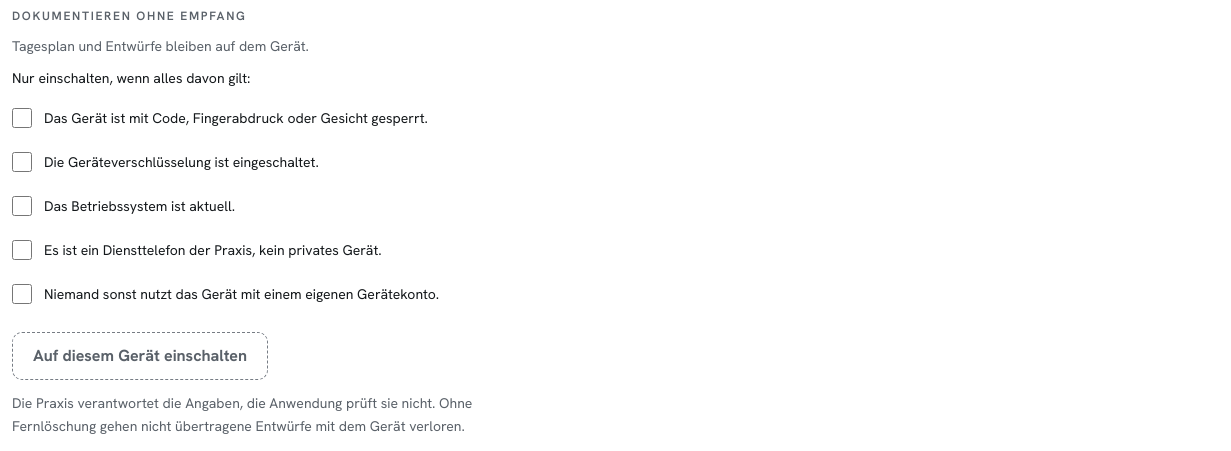
Test: DiensttelefonAbschnitt › schaltet erst ein, wenn jede Zeile der Gerätevorgabe bestätigt ist
Expected: the button "Auf diesem Gerät einschalten" is disabled, [12,332,268,380]
Click the checkbox labelled "Das Gerät ist mit Code, Fingerabdruck oder Gesicht gesperrt.".
click(22, 118)  # box [12,108,32,128]
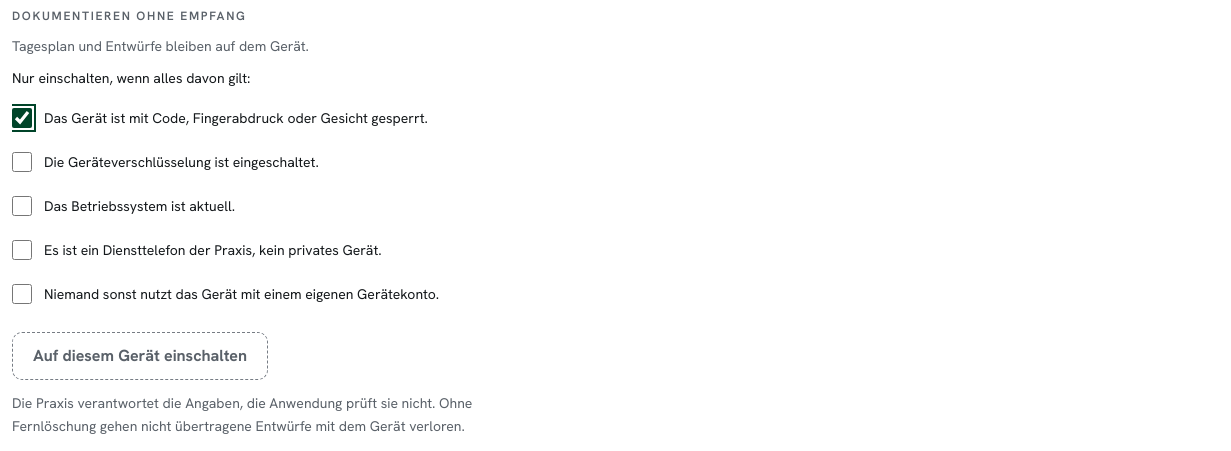
Click the checkbox labelled "Die Geräteverschlüsselung ist eingeschaltet.".
click(22, 162)  # box [12,152,32,172]
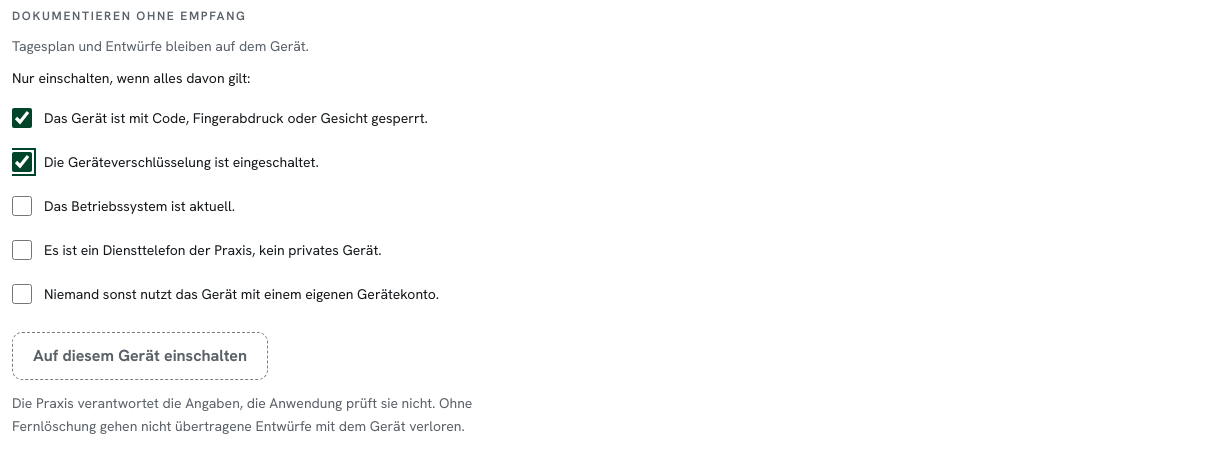
Click the checkbox labelled "Das Betriebssystem ist aktuell.".
click(22, 206)  # box [12,196,32,216]
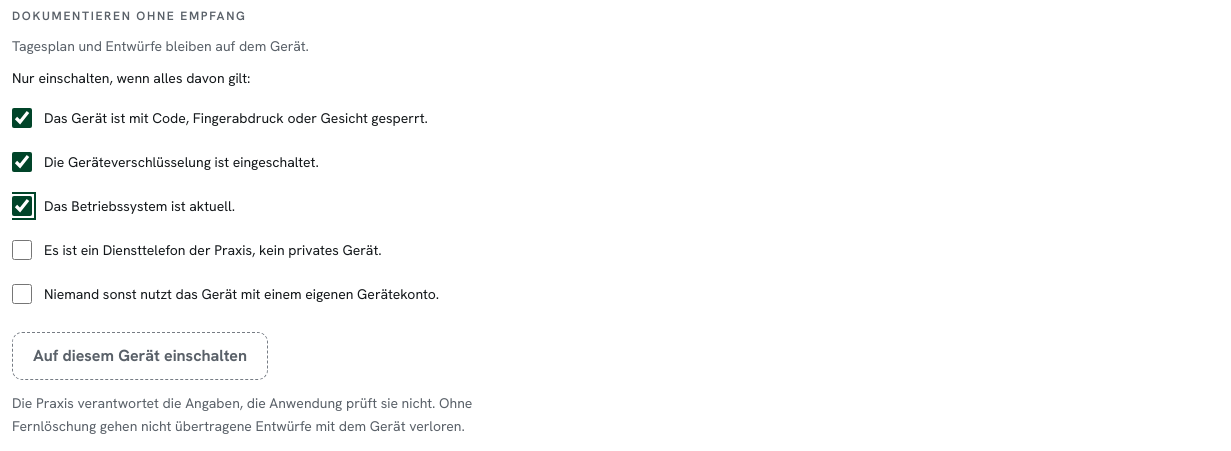
Click the checkbox labelled "Es ist ein Diensttelefon der Praxis, kein privates Gerät.".
click(22, 250)  # box [12,240,32,260]
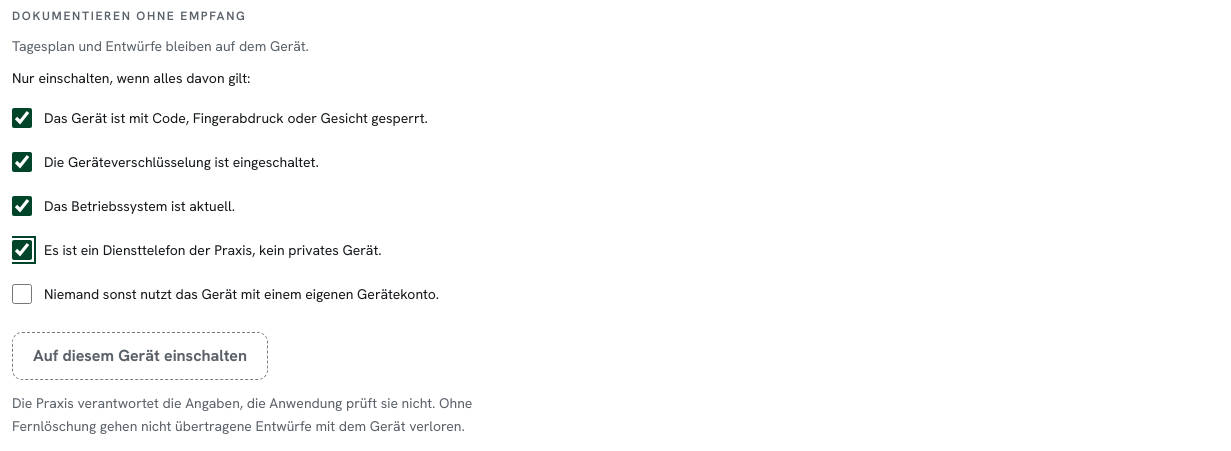
Expected: the button "Auf diesem Gerät einschalten" is disabled, [12,332,268,380]
Click the checkbox labelled "Niemand sonst nutzt das Gerät mit einem eigenen Gerätekonto.".
click(22, 294)  # box [12,284,32,304]
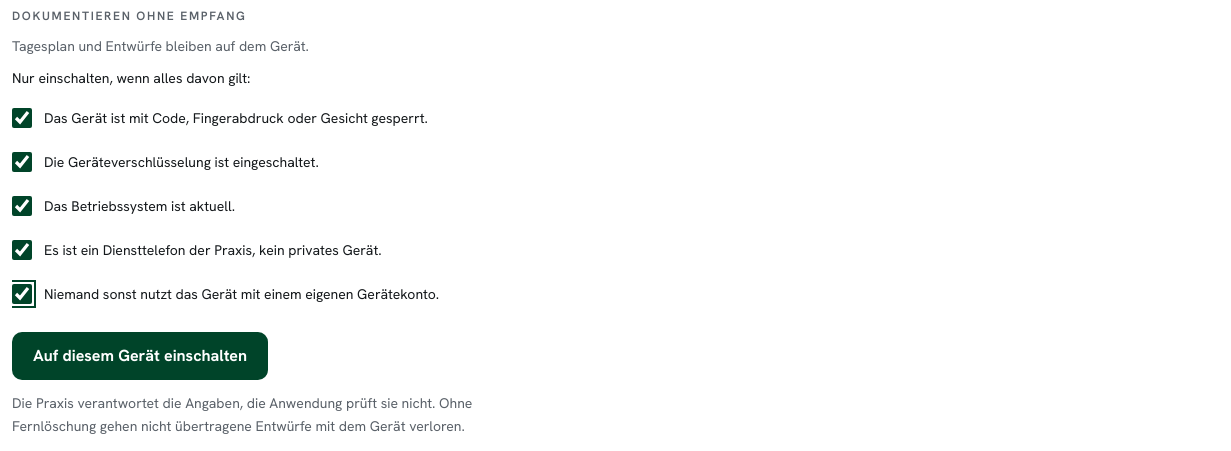
Click the button "Auf diesem Gerät einschalten".
click(140, 356)  # box [12,332,268,380]
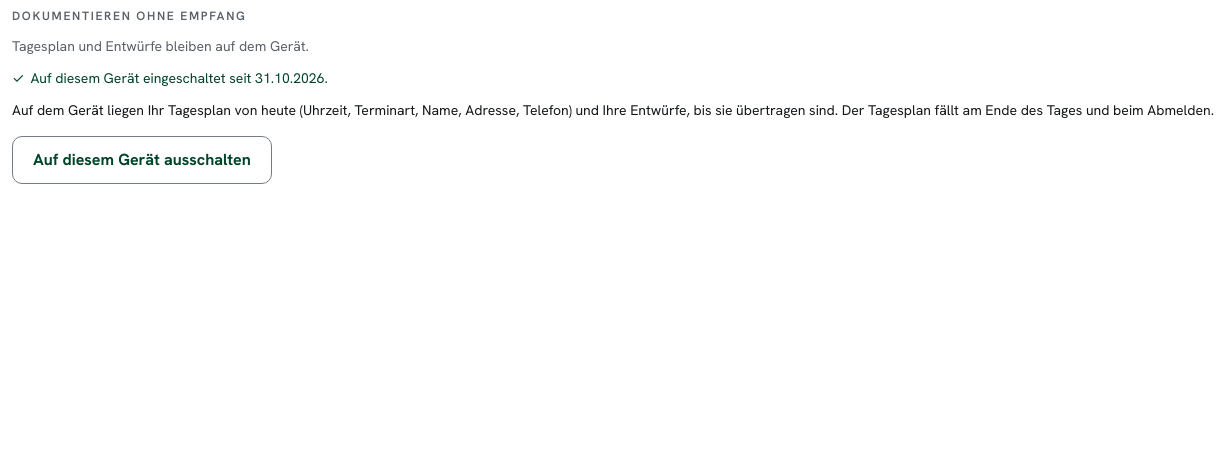
Now the text "✓Auf diesem Gerät eingeschaltet seit 31.10.2026." is shown, box [12,69,328,87]
